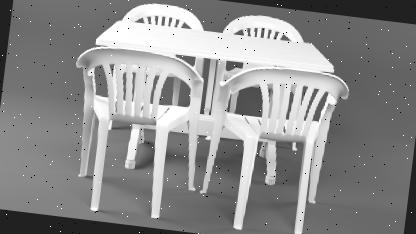chair: (52, 40, 210, 232), (193, 55, 351, 234)
